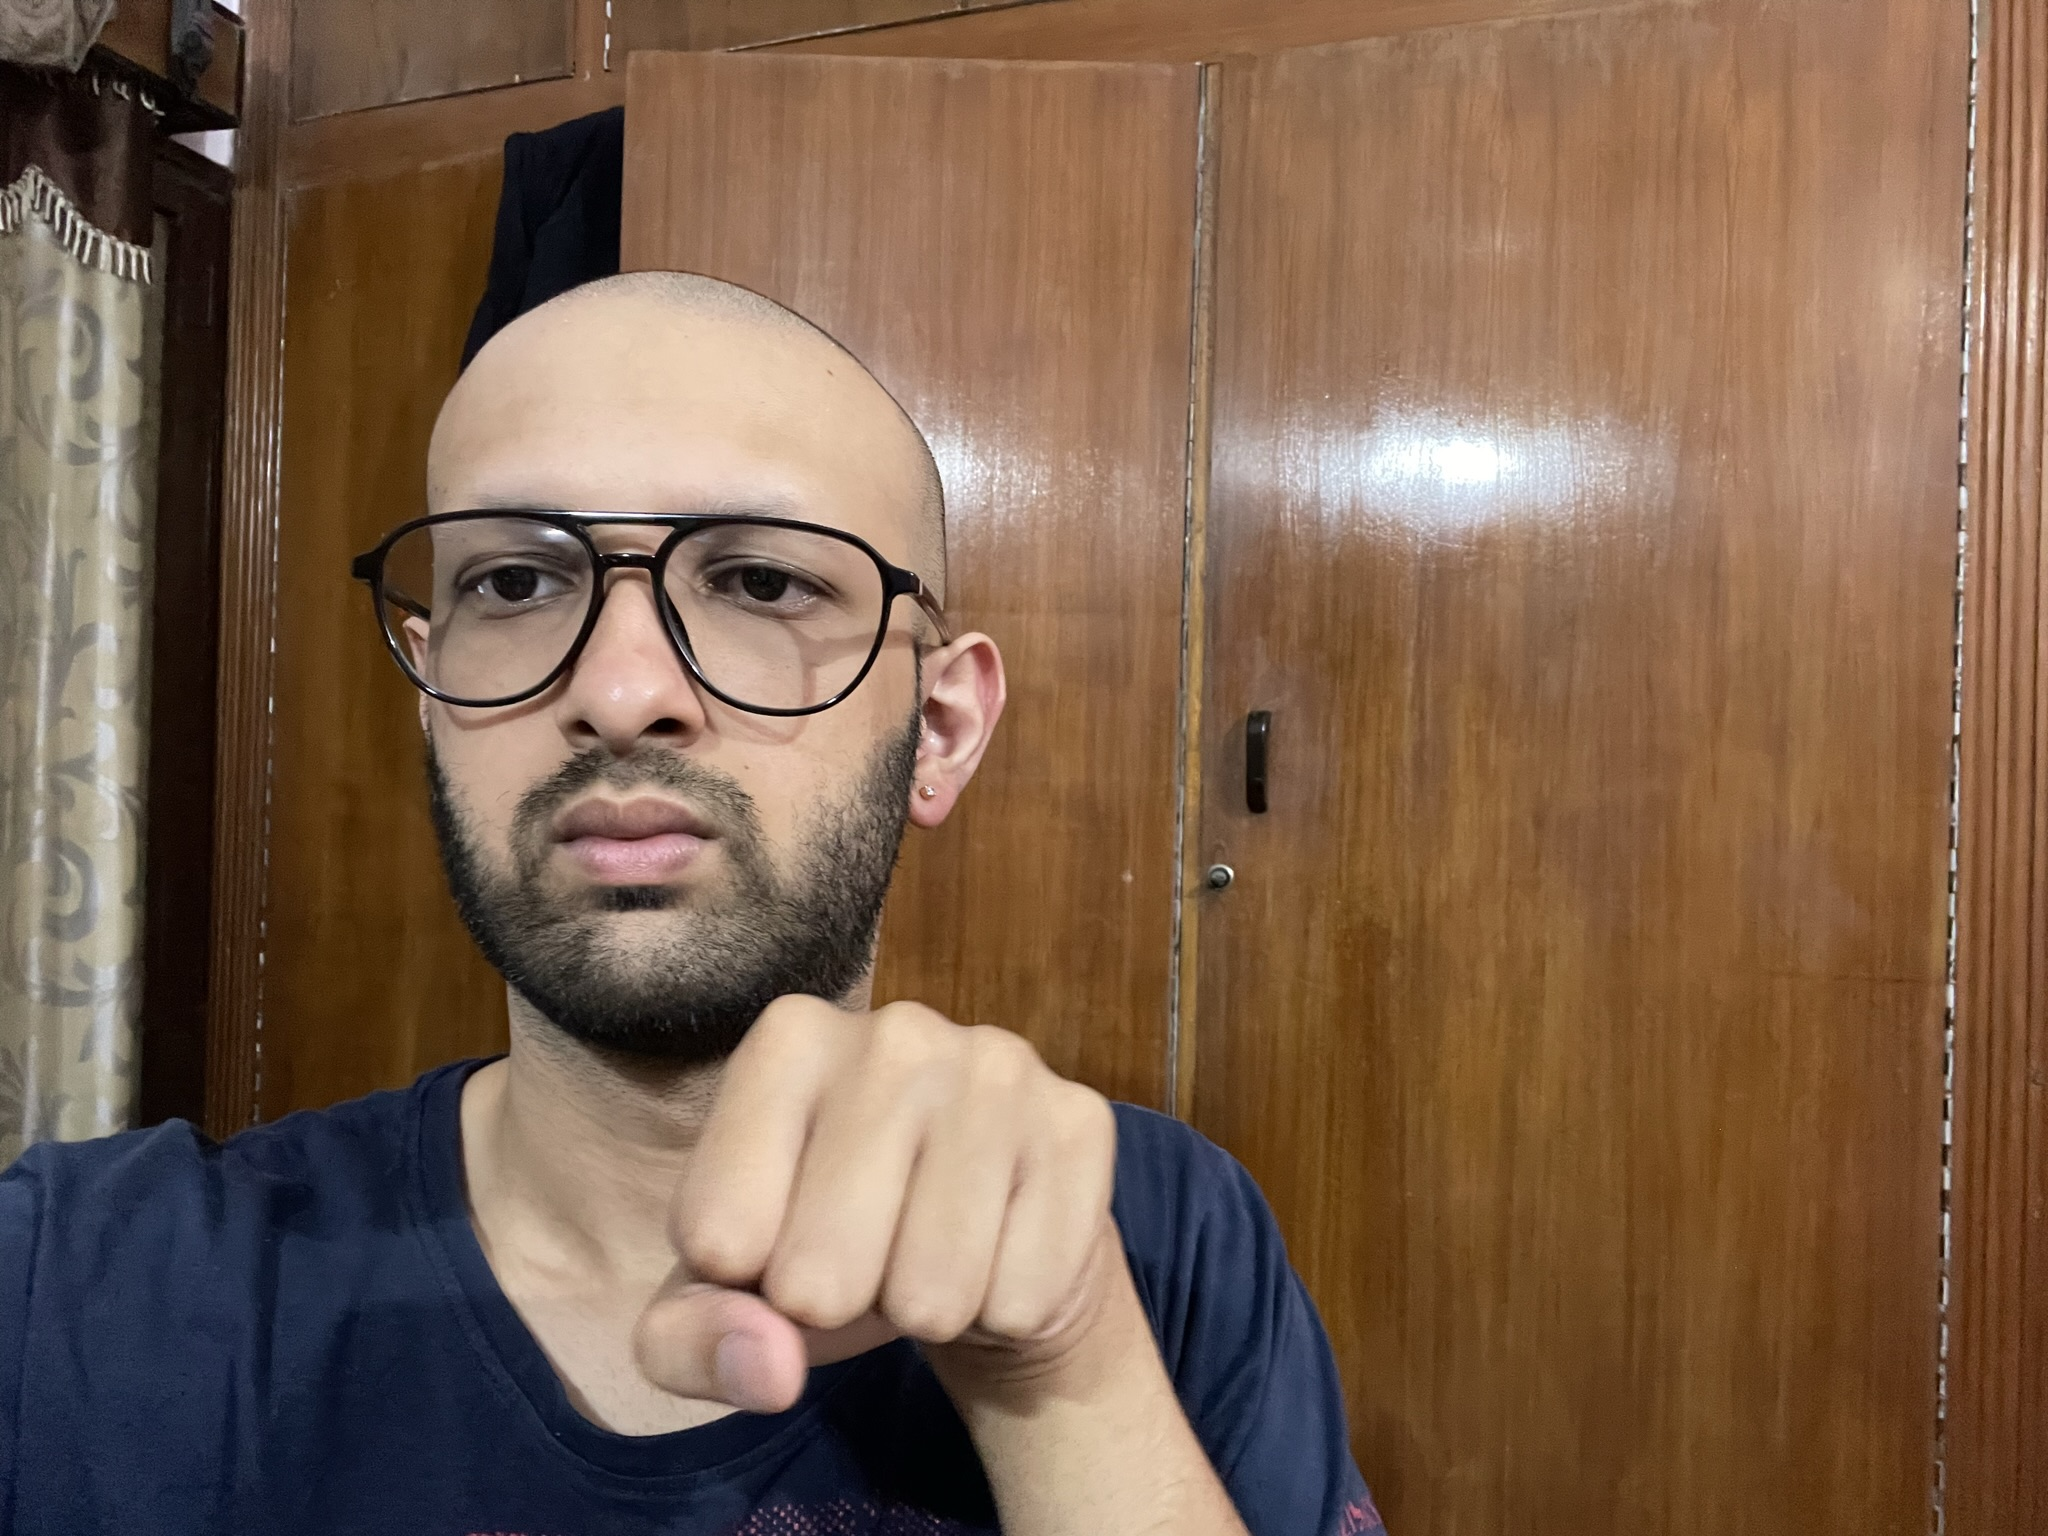Yes: (619, 976, 1124, 1421)
